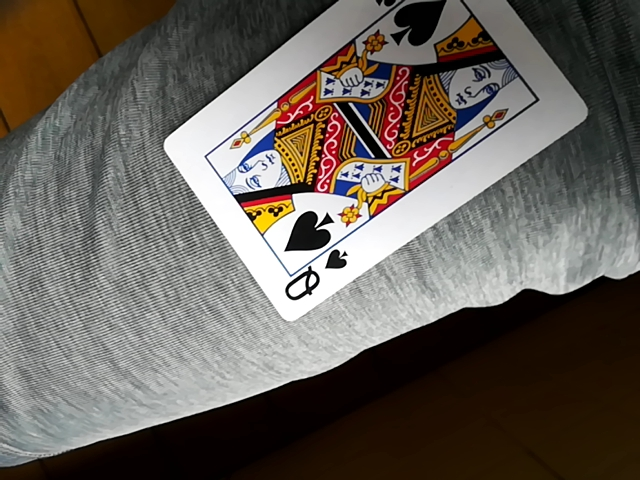ht q: (164, 0, 597, 319)
